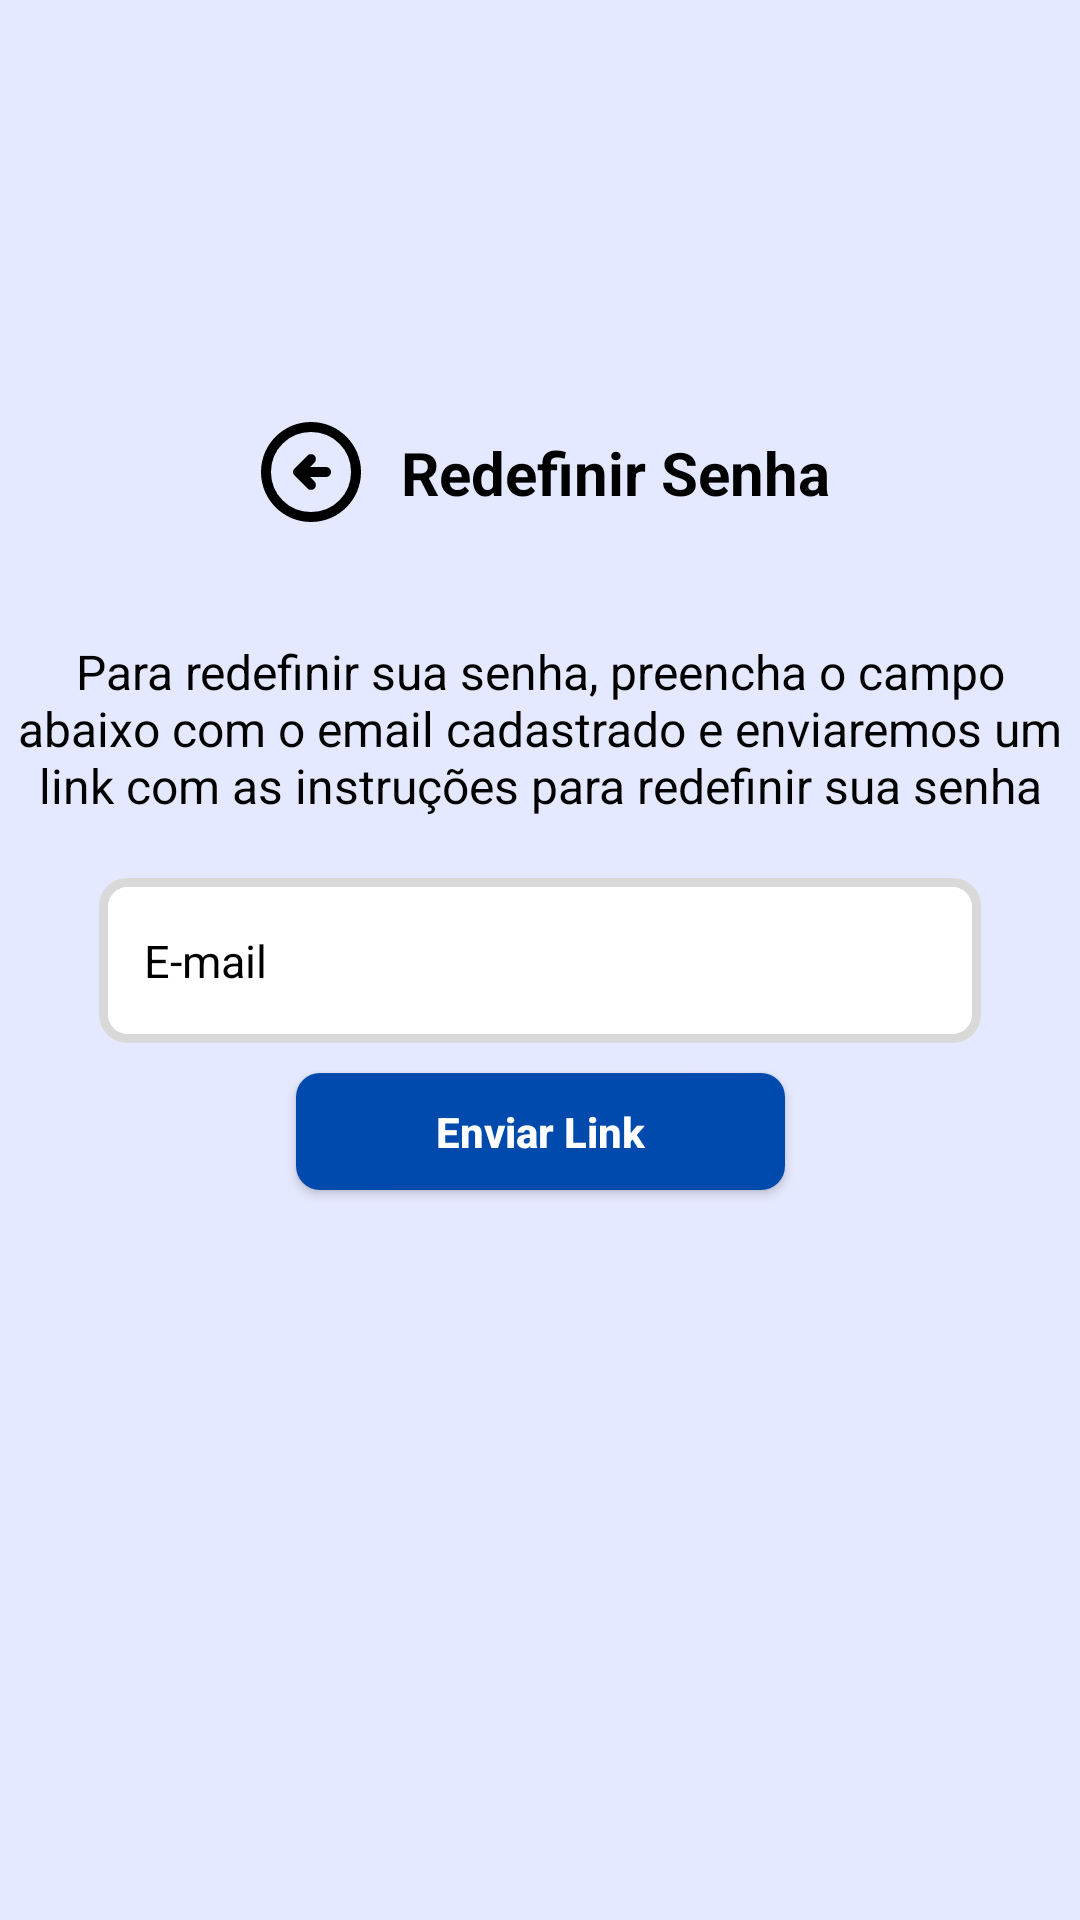

Named icons in this screenshot (1080px×1920px) and their bounding boxes, region(x1, y1, x2, y2):
back: region(261, 422, 361, 522)
